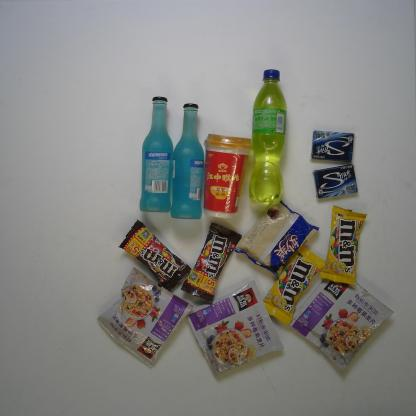Alcohol: (138, 96, 174, 215), (170, 103, 205, 219)
Chocolate: (118, 219, 192, 292), (262, 245, 326, 326), (181, 222, 242, 303), (320, 205, 368, 286)
Dessert: (234, 193, 320, 278)
Drink: (248, 69, 287, 206)
Gum: (313, 164, 358, 199), (310, 130, 354, 163)
Instant Drink: (96, 266, 194, 367), (289, 279, 394, 372), (186, 280, 285, 377), (203, 133, 253, 219)
